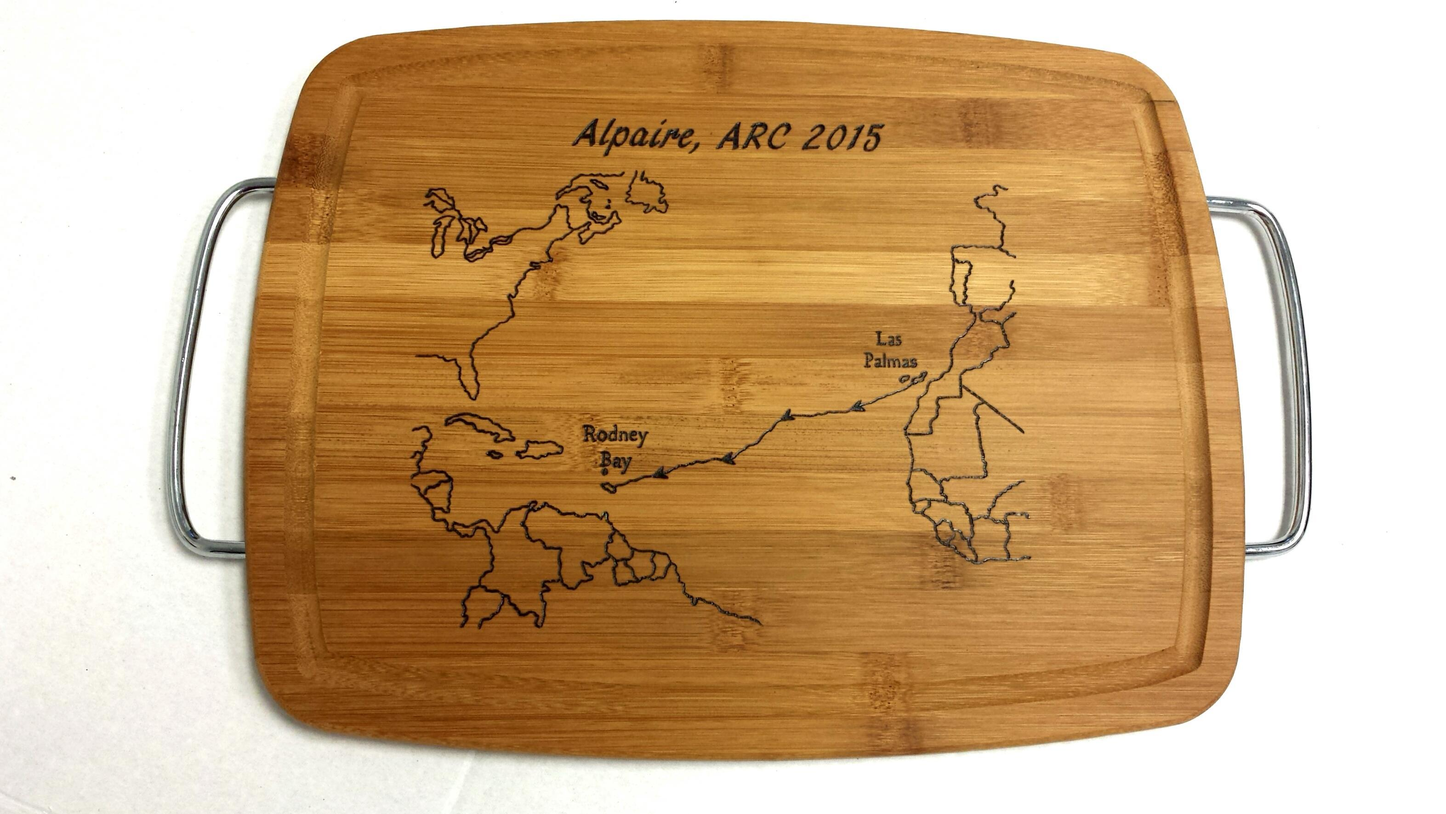gloved_hand: (166, 5, 1331, 789)
